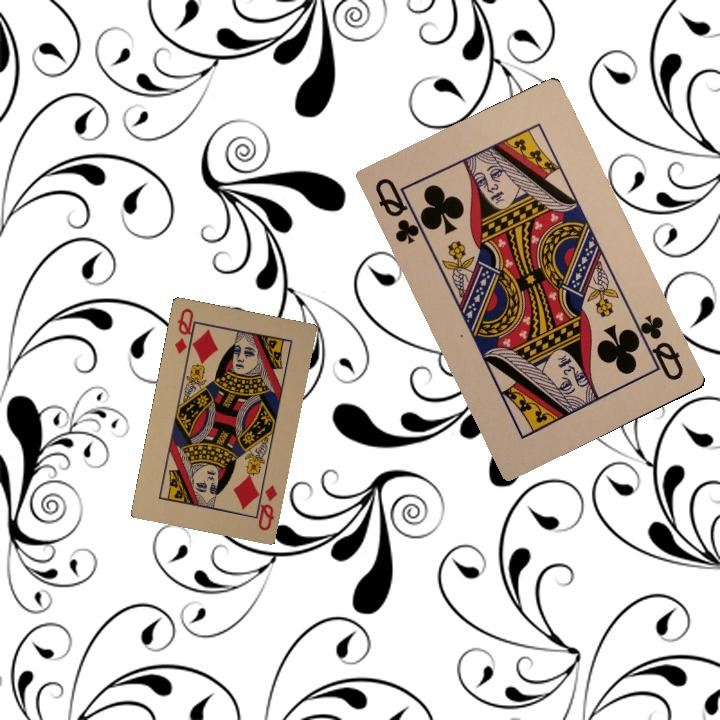Qc: (371, 174, 430, 246), (629, 310, 686, 383)
Qd: (249, 479, 280, 533), (170, 304, 198, 361)
